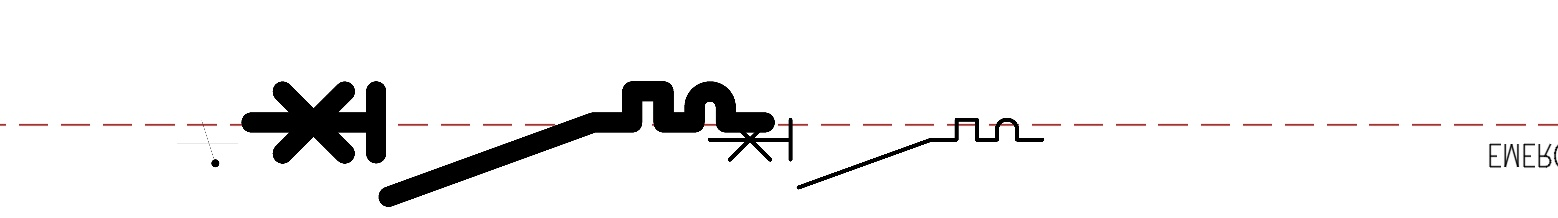interruptor_termomagnetico: (238, 78, 778, 210), (701, 111, 1051, 196)
